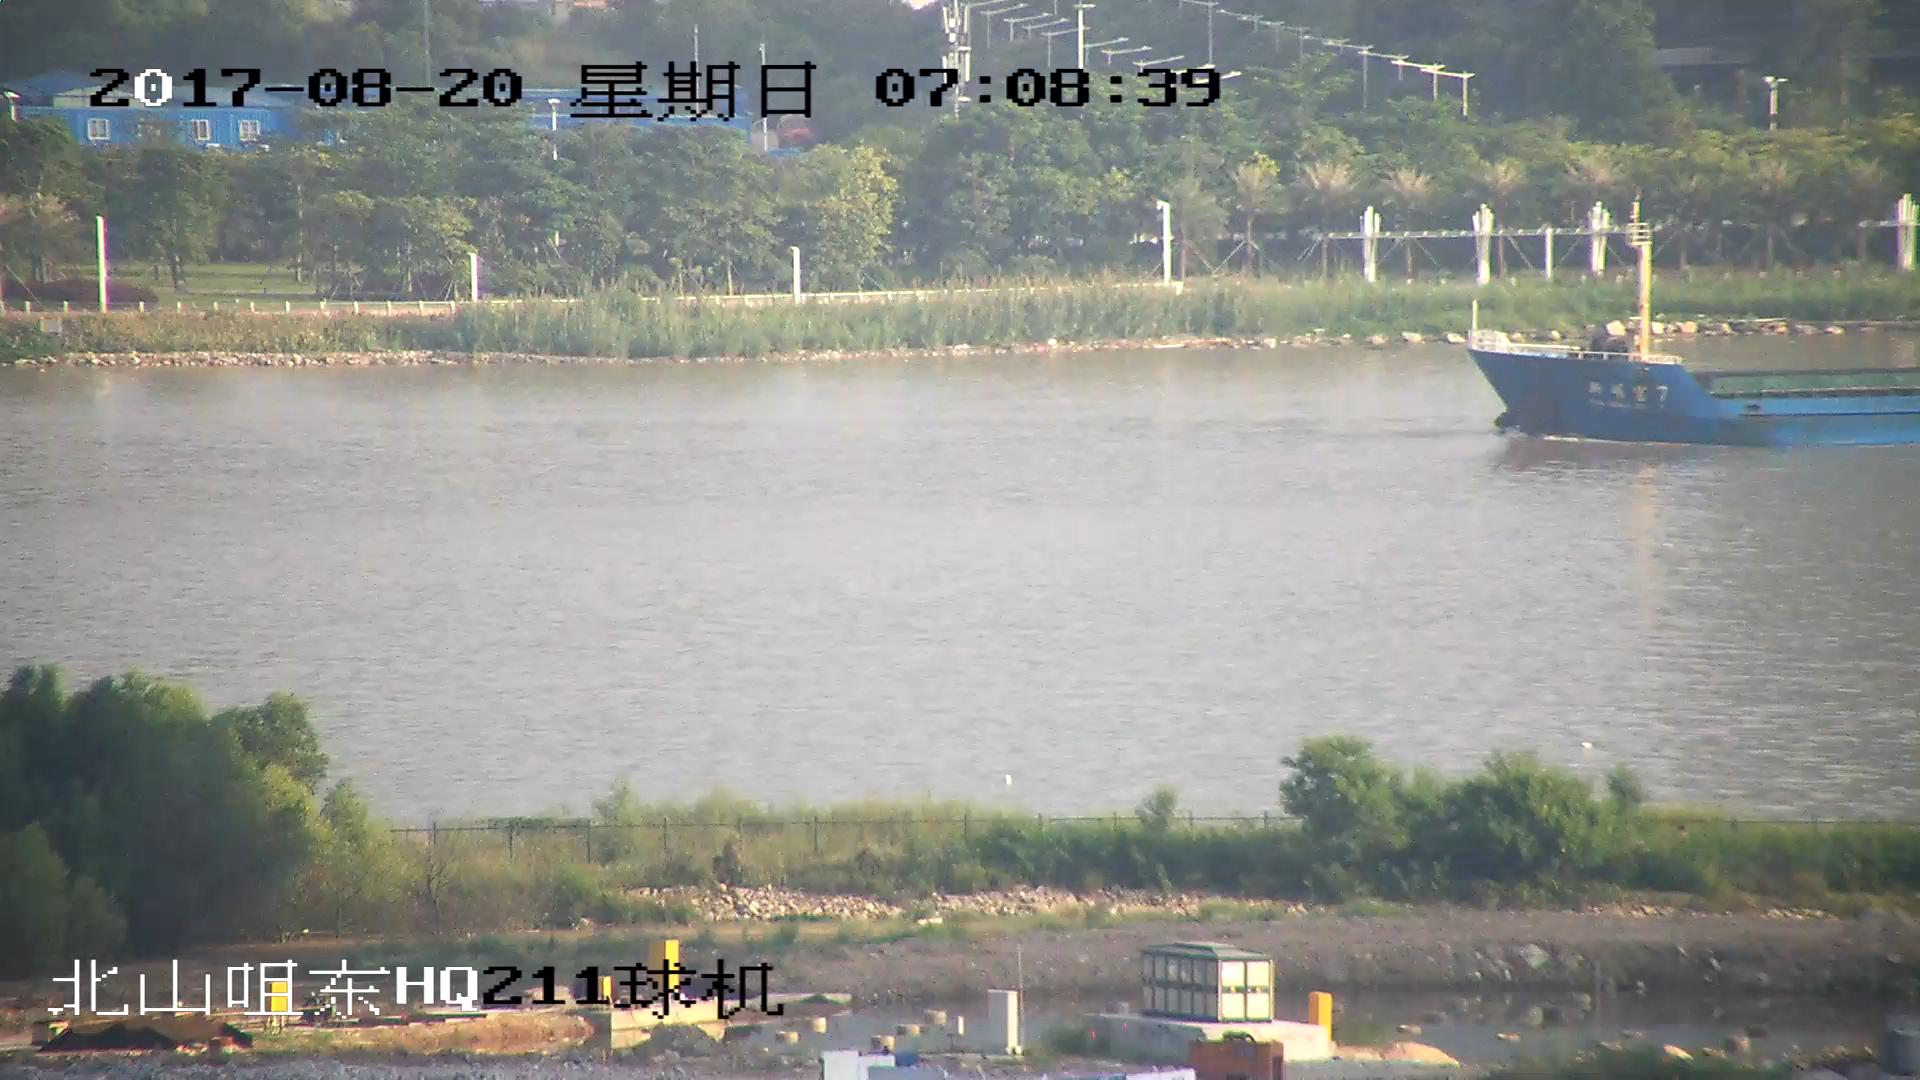general cargo ship: (1463, 232, 1920, 458)
